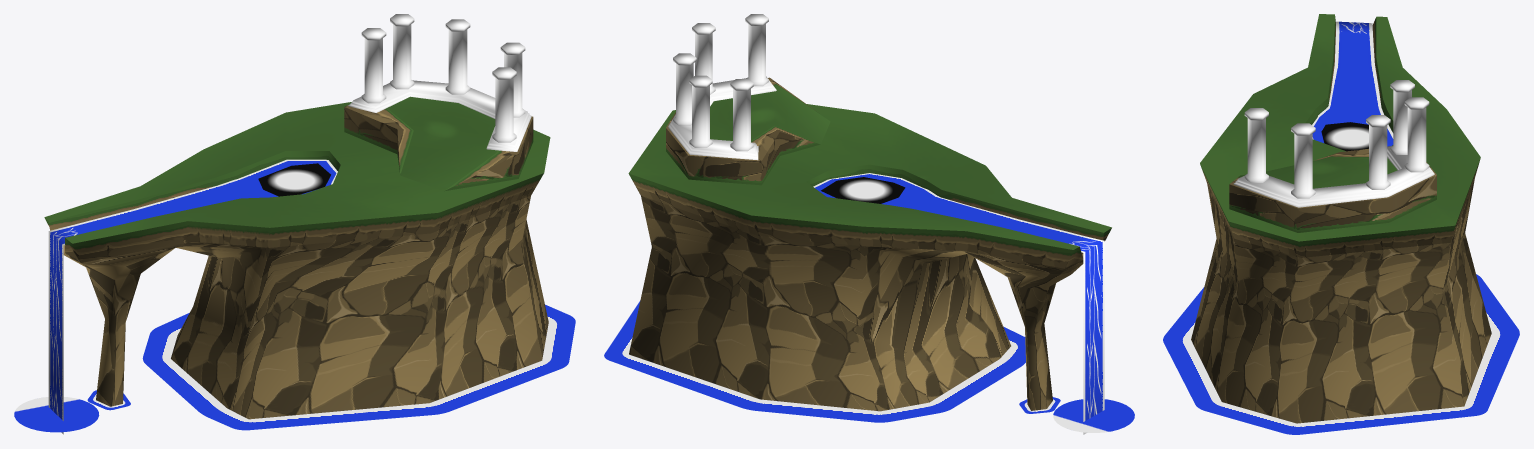
Rendered from island.glb.
The picture shows the model from 3 angles, left to right: view 1: azimuth 30°, elevation 25°; view 2: azimuth 150°, elevation 25°; view 3: azimuth 270°, elevation 25°; orthographic projection. The views are drawn at different scales.
Parts seen in each view (by area): view 1: cliff, cliff_ground, Circle, cliff_top, cliff.001, cliff2.002, cliff_ground.004, cliff2, cliff_ground.001, cliff_ground.005, Cone, cliff_ground.007 (+2 smaller); view 2: cliff, cliff_ground, cliff_top, Circle, cliff.001, cliff2.002, cliff2, cliff_ground.004, cliff_ground.007, cliff_ground.001, cliff_ground.005, Cone (+2 smaller); view 3: cliff, cliff_ground, Circle, cliff.001, cliff2, cliff_top, cliff_ground.004, cliff2.002, cliff_ground.005, cliff_ground.006, cliff_ground.001, cliff2.001.
Part boxes in pixels (x1=…): cliff: x1=63, y1=196, x2=548, y2=419; cliff_ground: x1=44, y1=101, x2=550, y2=243; Circle: x1=348, y1=14, x2=531, y2=151; cliff_top: x1=44, y1=173, x2=543, y2=262; cliff.001: x1=87, y1=304, x2=575, y2=430; cliff2.002: x1=387, y1=96, x2=496, y2=190; cliff_ground.004: x1=74, y1=162, x2=334, y2=234; cliff2: x1=344, y1=107, x2=533, y2=191; cliff_ground.001: x1=49, y1=151, x2=340, y2=230; cliff_ground.005: x1=48, y1=159, x2=337, y2=434; Cone: x1=14, y1=397, x2=99, y2=432; cliff_ground.007: x1=51, y1=228, x2=78, y2=418; cliff: x1=629, y1=196, x2=1083, y2=411; cliff_ground: x1=628, y1=104, x2=1111, y2=249; cliff_top: x1=629, y1=173, x2=1111, y2=268; Circle: x1=668, y1=14, x2=776, y2=160; cliff.001: x1=604, y1=301, x2=1060, y2=422; cliff2.002: x1=710, y1=86, x2=830, y2=144; cliff2: x1=666, y1=128, x2=820, y2=185; cliff_ground.004: x1=816, y1=175, x2=1080, y2=243; cliff_ground.007: x1=1069, y1=238, x2=1101, y2=419; cliff_ground.001: x1=806, y1=164, x2=1103, y2=240; cliff_ground.005: x1=813, y1=173, x2=1104, y2=434; Cone: x1=1053, y1=399, x2=1134, y2=432; cliff: x1=1191, y1=179, x2=1491, y2=423; cliff_ground: x1=1200, y1=14, x2=1480, y2=241; Circle: x1=1233, y1=80, x2=1434, y2=207; cliff.001: x1=1163, y1=274, x2=1519, y2=434; cliff2: x1=1229, y1=175, x2=1436, y2=232; cliff_top: x1=1200, y1=159, x2=1480, y2=257; cliff_ground.004: x1=1314, y1=32, x2=1393, y2=146; cliff2.002: x1=1241, y1=157, x2=1397, y2=188; cliff_ground.005: x1=1312, y1=21, x2=1393, y2=143; cliff_ground.006: x1=1321, y1=122, x2=1368, y2=151; cliff_ground.001: x1=1305, y1=16, x2=1393, y2=132; cliff2.001: x1=1229, y1=146, x2=1436, y2=208.
Size of what is drawn, in the model's own units: 49.21 by 26.39 by 29.11.
9 materials, 9 textured.
